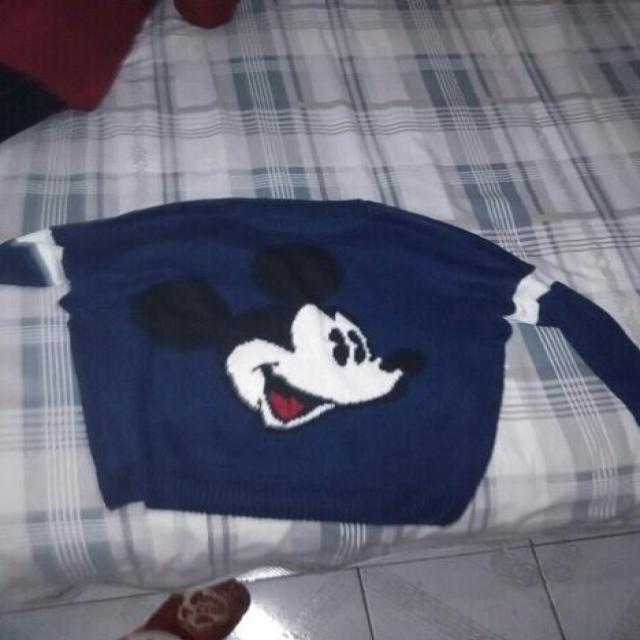long-sleeve-top: (0, 209, 640, 526)
